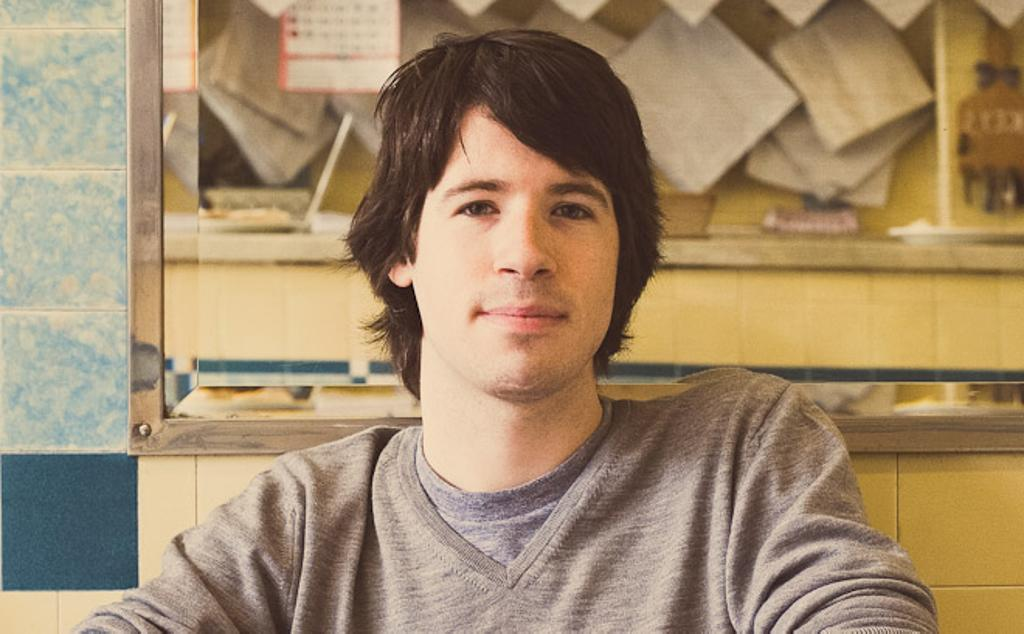face: (418, 100, 620, 386)
